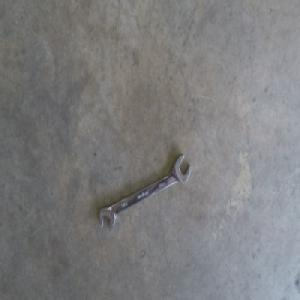Wrench: (99, 154, 191, 232)
